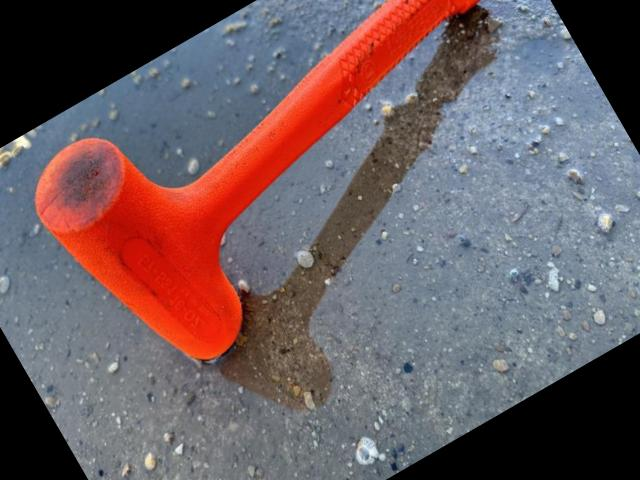hammer: (13, 0, 590, 398)
